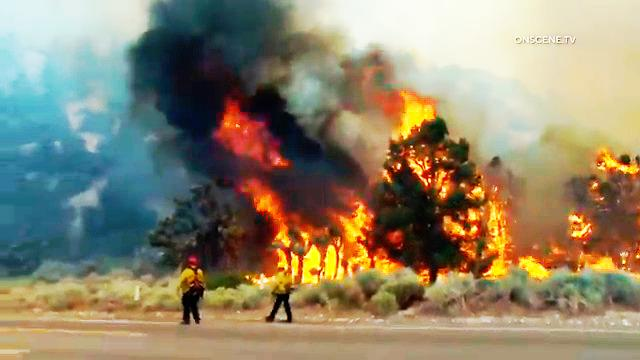fire: (268, 210, 346, 271), (338, 206, 392, 272), (463, 202, 502, 279), (402, 89, 436, 134)
smoke: (111, 9, 244, 114)
